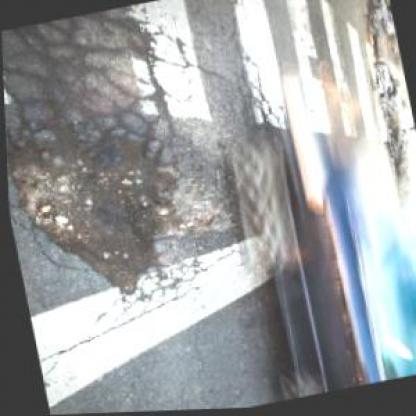pothole: (4, 102, 194, 308)
